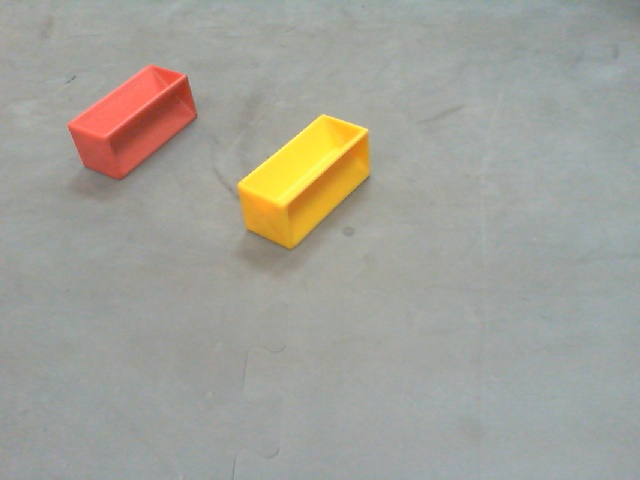RedSample: (66, 62, 198, 178)
YellowSample: (240, 115, 370, 248)
